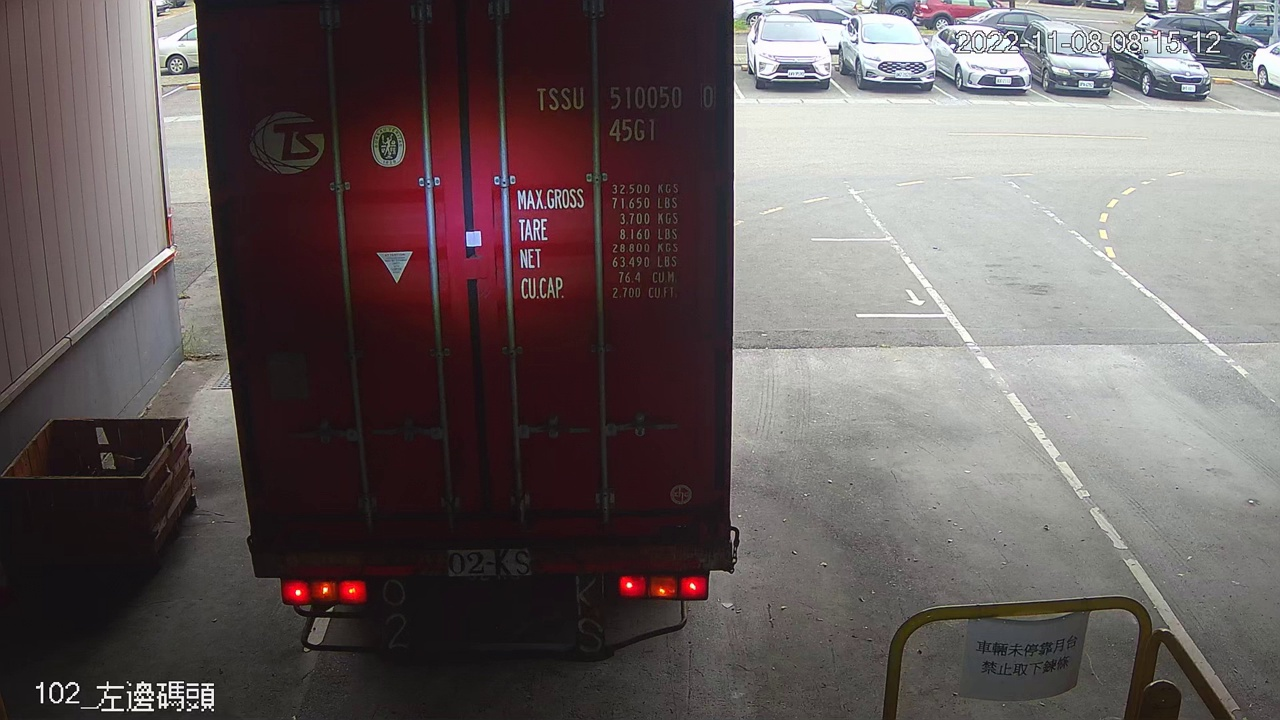container: (528, 75, 722, 153)
